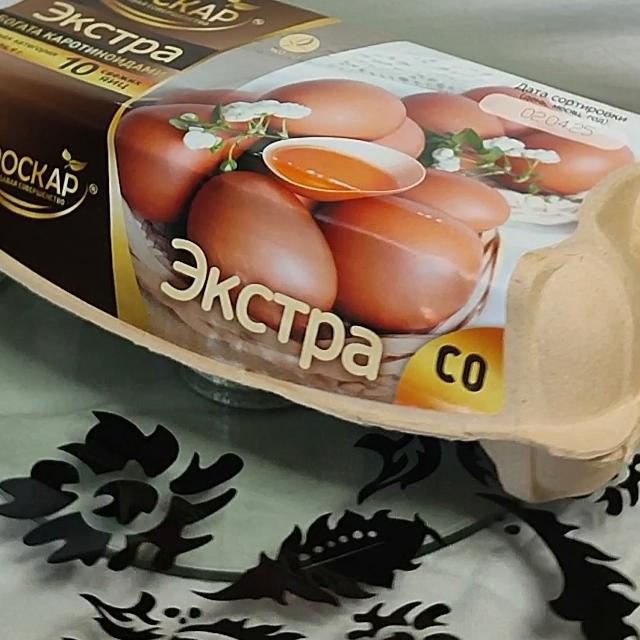egg: (0, 0, 640, 511)
